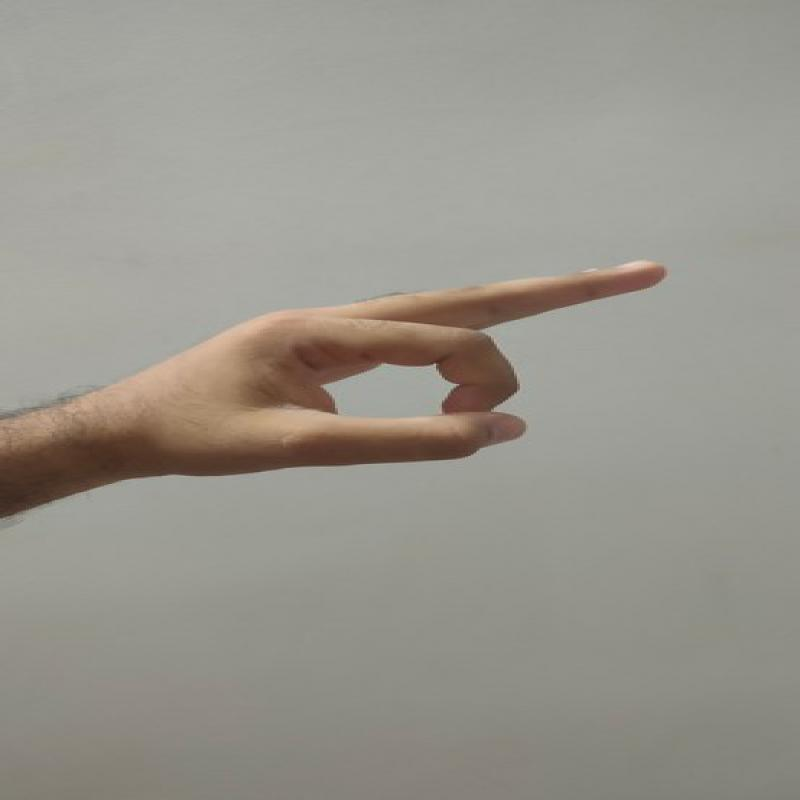Mudraakhyam: (100, 248, 708, 488)
